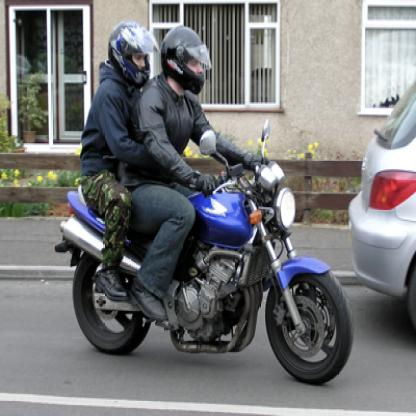With Helmet: (160, 24, 215, 100)
